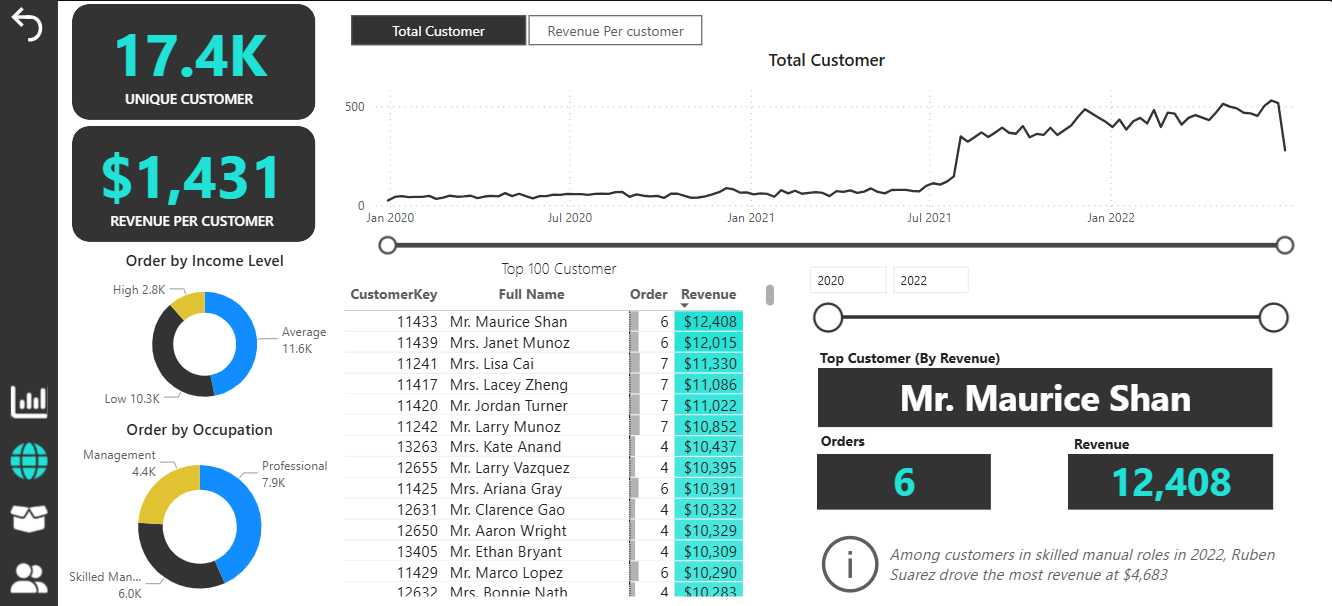

The page's visual inventory and layout, read from the dashboard file:
{"tool":"powerbi","page":{"name":"Customer Detail","canvas":[1150,530],"ordinal":4},"visuals":[{"type":"shape","box":[0,0,50,530],"z":0},{"type":"shape","box":[62.2,108.9,210,100],"z":1000},{"type":"shape","box":[62.2,3.2,210,100],"z":2000},{"type":"card","fields":{"Values":["Measure Table.Average Revenue Per customer"]},"box":[50,110,231.1,94.4],"z":3000},{"type":"card","fields":{"Values":["Measure Table.Total Customer"]},"box":[47.8,5.6,231.1,94.4],"z":4000},{"type":"lineChart","fields":{"Y":["Measure Table.Total Customer"],"Category":["Calendar Lookup.Date Hierarchy.Start of Year","Calendar Lookup.Date Hierarchy.Start of Month","Calendar Lookup.Date Hierarchy.Start of Week","Calendar Lookup.Date Hierarchy.Date"]},"box":[291.4,40.6,843.1,181.5],"z":5000},{"type":"donutChart","title":"Order by Income Level","fields":{"Category":["Customer Lookup.Income Level"],"Y":["Measure Table.Total Order"]},"box":[62.2,215.6,228.9,145.6],"z":6000},{"type":"donutChart","title":"Order by Occupation","fields":{"Y":["Measure Table.Total Order"],"Category":["Customer Lookup.Occupation"]},"box":[53.3,361.1,237.8,168.9],"z":7000},{"type":"tableEx","title":"Top 100 Customer","fields":{"Values":["Sales Data.CustomerKey","Customer Lookup.Full Name ","Measure Table.Total Order","Measure Table.Total Revenue"]},"box":[290.4,222.3,382.9,296.8],"z":8000},{"type":"card","fields":{"Values":["Customer Lookup.Full Name (Customer Detail)"]},"box":[705.4,317.7,392.2,51.1],"z":9000},{"type":"card","fields":{"Values":["Measure Table.Total Revenue (Customer Detail)"]},"box":[921.1,391.6,177.3,47.5],"z":10000},{"type":"card","fields":{"Values":["Measure Table.Total Order (Customer Detail)"]},"box":[705.2,391.6,150.3,47.5],"z":11000},{"type":"textbox","box":[703.2,365.7,62.2,27.8],"z":12000},{"type":"textbox","box":[921.1,368.5,73.2,27],"z":13000},{"type":"textbox","box":[702.1,294.3,172.2,27.8],"z":14000},{"type":"slicer","fields":{"Values":["Calendar Lookup.Year"]},"box":[686,220.3,434,71],"z":15000},{"type":"actionButton","box":[702.4,455.7,418,62.5],"z":16000},{"type":"actionButton","box":[3.9,1.3,51.4,39.8],"z":17000},{"type":"actionButton","box":[5.5,327.1,65.5,39.8],"z":18000},{"type":"actionButton","box":[5.5,428.2,65.5,39.8],"z":19000},{"type":"actionButton","box":[5.5,377.6,65.5,39.8],"z":20000},{"type":"actionButton","box":[5.5,478.7,65.5,39.8],"z":21000},{"type":"slicer","fields":{"Values":["Customer Metric Selection.Customer Metric Selection"]},"box":[276.8,6.5,353.3,34.5],"z":23500}]}

Visuals, with their boxes on the page's 1150x530 design canvas (x1, y1, x2, y2). These are canvas units, not pixel positions in the 1332x606 screenshot, which may show the page scaled, cropped or inside an application window:
shape: x1=0 y1=0 x2=50 y2=530
shape: x1=62 y1=109 x2=272 y2=209
shape: x1=62 y1=3 x2=272 y2=103
card - Measure Table.Average Revenue Per customer: x1=50 y1=110 x2=281 y2=204
card - Measure Table.Total Customer: x1=48 y1=6 x2=279 y2=100
lineChart - Measure Table.Total Customer x Calendar Lookup.Date Hierarchy.Start of Year: x1=291 y1=41 x2=1134 y2=222
"Order by Income Level" donutChart: x1=62 y1=216 x2=291 y2=361
"Order by Occupation" donutChart: x1=53 y1=361 x2=291 y2=530
"Top 100 Customer" tableEx: x1=290 y1=222 x2=673 y2=519
card - Customer Lookup.Full Name (Customer Detail): x1=705 y1=318 x2=1098 y2=369
card - Measure Table.Total Revenue (Customer Detail): x1=921 y1=392 x2=1098 y2=439
card - Measure Table.Total Order (Customer Detail): x1=705 y1=392 x2=856 y2=439
textbox: x1=703 y1=366 x2=765 y2=394
textbox: x1=921 y1=368 x2=994 y2=396
textbox: x1=702 y1=294 x2=874 y2=322
slicer - Calendar Lookup.Year: x1=686 y1=220 x2=1120 y2=291
actionButton: x1=702 y1=456 x2=1120 y2=518
actionButton: x1=4 y1=1 x2=55 y2=41
actionButton: x1=6 y1=327 x2=71 y2=367
actionButton: x1=6 y1=428 x2=71 y2=468
actionButton: x1=6 y1=378 x2=71 y2=417
actionButton: x1=6 y1=479 x2=71 y2=518
slicer - Customer Metric Selection.Customer Metric Selection: x1=277 y1=6 x2=630 y2=41
